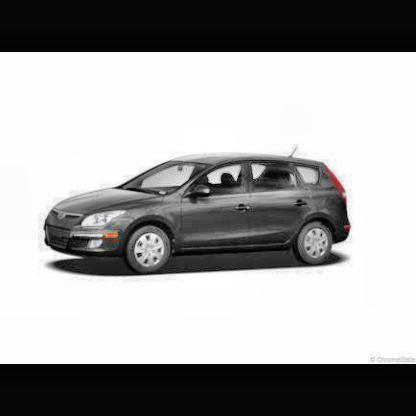Hyundai Elantra Touring Hatchback 2012: (41, 143, 355, 271)
